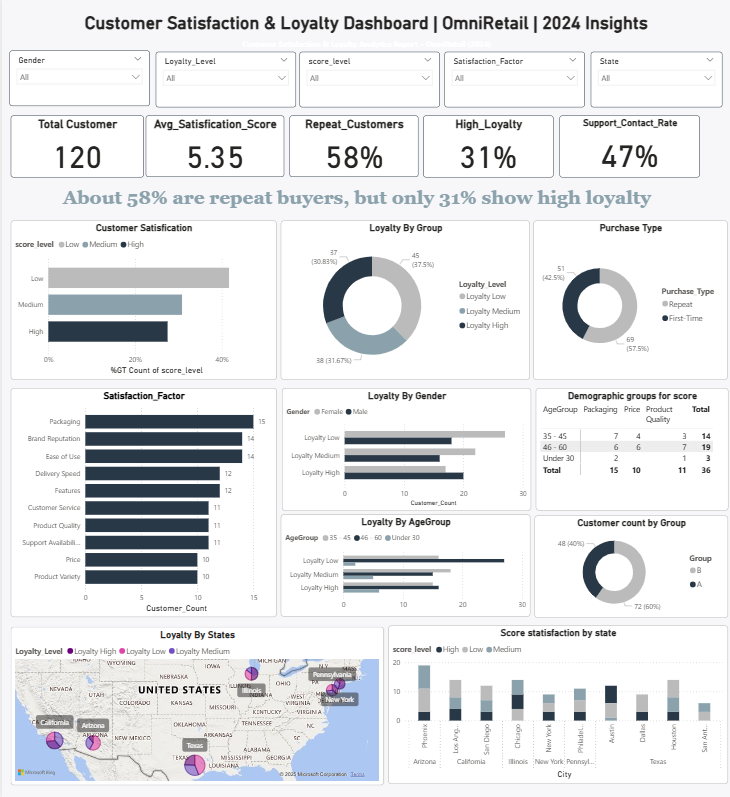

This screenshot's page, from the dashboard's own definition file:
{"tool":"powerbi","page":{"name":"Page 1","canvas":[1280,1420],"ordinal":0},"visuals":[{"type":"barChart","title":"Customer Satisfication","fields":{"Category":["Query1.score_level"],"Series":["Query1.score_level"],"Y":["CountNonNull(Query1.score_level)"]},"box":[15.6,400.1,466.8,280.1],"z":0},{"type":"clusteredBarChart","title":"Satisfaction_Factor","fields":{"Y":["Query1.Customer_Count"],"Category":["Query1.Satisfaction_Factor"]},"box":[15.6,693.6,466.8,402.4],"z":1000},{"type":"card","title":"Total Customer","fields":{"Values":["CountNonNull(Query1.Customer_ID)"]},"box":[15.6,214.6,233.4,108.9],"z":2000},{"type":"clusteredBarChart","title":"Loyalty By Gender","fields":{"Category":["Query1.Loyalty_Level"],"Series":["Query1.Gender"],"Y":["Query1.Customer_Count"]},"box":[491.3,693.6,437.9,215.6],"z":3000},{"type":"donutChart","title":"Loyalty By Group","fields":{"Category":["Query1.Loyalty_Level"],"Y":["CountNonNull(Query1.Customer_ID)"]},"box":[489,400.1,437.9,280.1],"z":4000},{"type":"clusteredBarChart","title":"Loyalty By AgeGroup","fields":{"Category":["Query1.Loyalty_Level"],"Y":["CountNonNull(Query1.Customer_ID)"],"Series":["Query1.AgeGroup"]},"box":[490.6,916.6,438.8,180],"z":5000},{"type":"donutChart","title":"Purchase Type","fields":{"Category":["Query1.Purchase_Type"],"Y":["CountNonNull(Query1.Customer_ID)"]},"box":[933.3,400,341.7,280],"z":6000},{"type":"map","title":"Loyalty By States","fields":{"Y":["Avg(Query1.Latitude)"],"X":["Avg(Query1.Longitude)"],"Size":["Query1.Customer_Count"],"Category":["Query1.State_Name"],"Series":["Query1.Loyalty_Level"]},"box":[16.4,1112.4,655,278.3],"z":8000},{"type":"ribbonChart","title":"Score statisfaction by state","fields":{"Category":["Query1.State_Name","Query1.City"],"Y":["Query1.Customer_Count"],"Series":["Query1.score_level"]},"box":[678.3,1111.7,596.7,278.3],"z":8001},{"type":"pivotTable","title":"Demographic groups for score","fields":{"Rows":["Query1.AgeGroup"],"Values":["CountNonNull(Query1.Customer_ID)"],"Columns":["Query1.Satisfaction_Factor"]},"box":[936.7,693.3,338.3,215],"z":8002},{"type":"donutChart","title":"Customer count by Group","fields":{"Category":["Query1.Group"],"Y":["CountNonNull(Query1.Customer_ID)"]},"box":[935,916.7,340,180],"z":8003},{"type":"card","title":"Avg_Satisfication_Score","fields":{"Values":["Query1.Avg_Satisfaction"]},"box":[253.3,215,243.3,108.3],"z":8006},{"type":"card","title":"Repeat_Customers","fields":{"Values":["Query1.Repeat_Customers"]},"box":[505,215,226.7,108.3],"z":8007},{"type":"card","title":"High_Loyalty","fields":{"Values":["Query1.High_Loyalty_Pct"]},"box":[740.2,214.6,229,108.9],"z":8008},{"type":"card","title":"Support_Contact_Rate","fields":{"Values":["Query1.Support_Contact_Rate"]},"box":[978.1,214.6,246.7,108.9],"z":8009},{"type":"slicer","fields":{"Values":["Query1.Gender"]},"box":[13.8,101.8,246.7,97.8],"z":8010},{"type":"slicer","fields":{"Values":["Query1.Loyalty_Level"]},"box":[269,102.3,246.7,97.8],"z":8011},{"type":"slicer","fields":{"Values":["Query1.score_level"]},"box":[522.4,102.3,246.7,97.8],"z":8012},{"type":"slicer","fields":{"Values":["Query1.Satisfaction_Factor"]},"box":[778,102.3,246.7,97.8],"z":8013},{"type":"slicer","fields":{"Values":["Query1.State_Name"]},"box":[1033.7,102.3,231.2,97.8],"z":8014},{"type":"shape","title":"Customer Satisfaction & Loyalty Dashboard | OmniRetail | 2024 Insights","box":[15.6,35.6,1249.3,66.7],"z":8015},{"type":"card","fields":{"Values":["Query1.Insight_Text"]},"box":[21.7,331.7,1203.3,51.7],"z":8016}]}

Visuals, with their boxes in screenshot pixels (x1, y1, x2, y2), scaled from the page's 1280x1420 canvas onto the 730x797 screenshot:
"Customer Satisfication" barChart: [x1=9, y1=225, x2=275, y2=382]
"Satisfaction_Factor" clusteredBarChart: [x1=9, y1=389, x2=275, y2=615]
"Total Customer" card: [x1=9, y1=120, x2=142, y2=182]
"Loyalty By Gender" clusteredBarChart: [x1=280, y1=389, x2=530, y2=510]
"Loyalty By Group" donutChart: [x1=279, y1=225, x2=529, y2=382]
"Loyalty By AgeGroup" clusteredBarChart: [x1=280, y1=514, x2=530, y2=615]
"Purchase Type" donutChart: [x1=532, y1=225, x2=727, y2=382]
"Loyalty By States" map: [x1=9, y1=624, x2=383, y2=781]
"Score statisfaction by state" ribbonChart: [x1=387, y1=624, x2=727, y2=780]
"Demographic groups for score" pivotTable: [x1=534, y1=389, x2=727, y2=510]
"Customer count by Group" donutChart: [x1=533, y1=515, x2=727, y2=616]
"Avg_Satisfication_Score" card: [x1=144, y1=121, x2=283, y2=181]
"Repeat_Customers" card: [x1=288, y1=121, x2=417, y2=181]
"High_Loyalty" card: [x1=422, y1=120, x2=553, y2=182]
"Support_Contact_Rate" card: [x1=558, y1=120, x2=699, y2=182]
slicer - Query1.Gender: [x1=8, y1=57, x2=149, y2=112]
slicer - Query1.Loyalty_Level: [x1=153, y1=57, x2=294, y2=112]
slicer - Query1.score_level: [x1=298, y1=57, x2=439, y2=112]
slicer - Query1.Satisfaction_Factor: [x1=444, y1=57, x2=584, y2=112]
slicer - Query1.State_Name: [x1=590, y1=57, x2=721, y2=112]
"Customer Satisfaction & Loyalty Dashboard | OmniRetail | 2024 Insights" shape: [x1=9, y1=20, x2=721, y2=57]
card - Query1.Insight_Text: [x1=12, y1=186, x2=699, y2=215]
